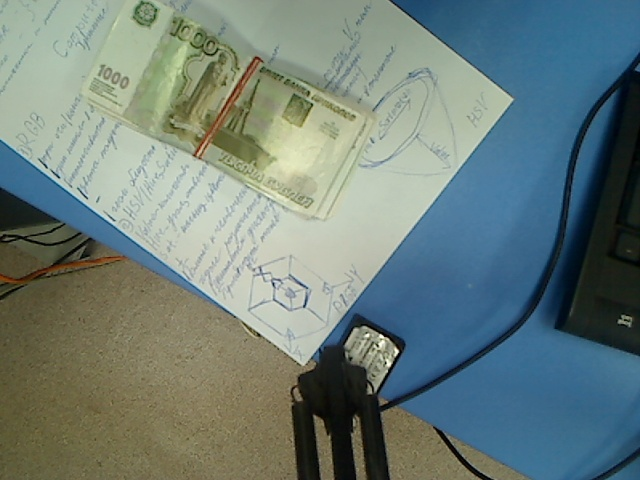banknotes: (77, 2, 379, 229)
